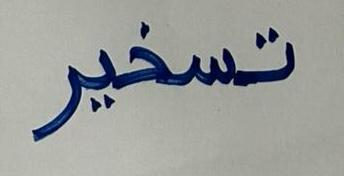khah: (122, 13, 174, 102)
reh: (22, 52, 82, 146)
seen: (179, 25, 240, 109)
teh: (242, 10, 302, 107)
yeh: (83, 37, 120, 127)
